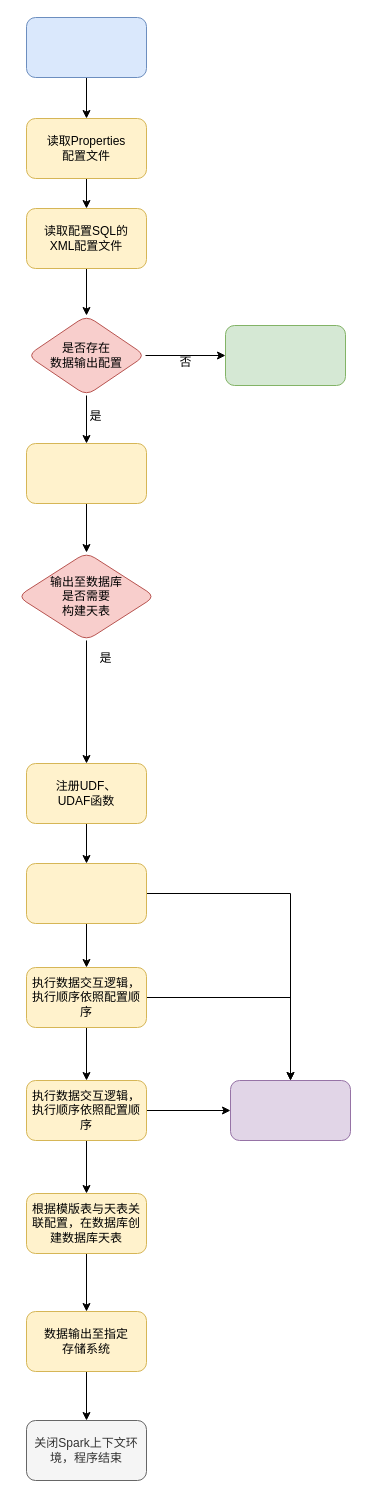
Image size: 368x1498. Some labels were removed from this diagram. The centre of each missing label's shape, as x and y in pixels:
"spark-submit" belongs at (86,47).
"从多种数据源 读取数据并注册 至Spark" belongs at (86,893).
"构建Spark运行环境" belongs at (86,473).
"由于没有数据输出，程序无意义，直接结束" belongs at (285,355).
"配置了缓存的数据 进行缓存缓存" belongs at (290,1110).
